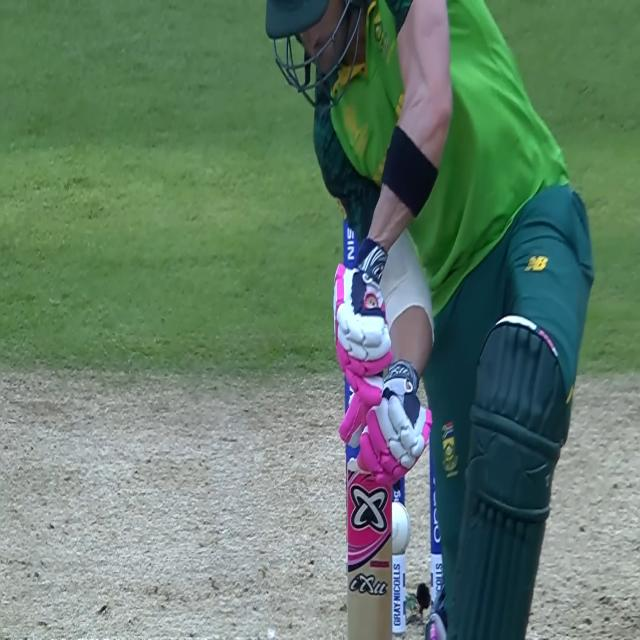ball: (392, 497, 413, 562)
